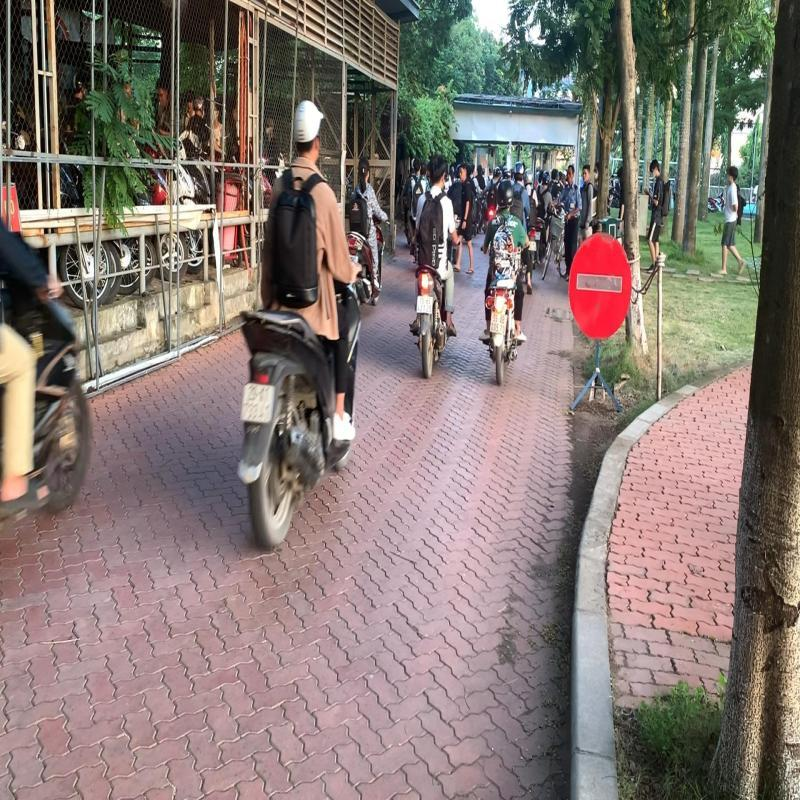nohelmet: (427, 152, 446, 188), (355, 156, 372, 183)
